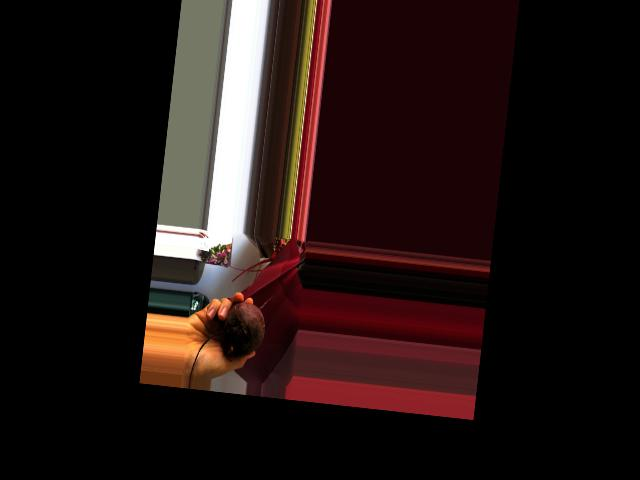beet: (189, 285, 276, 383)
